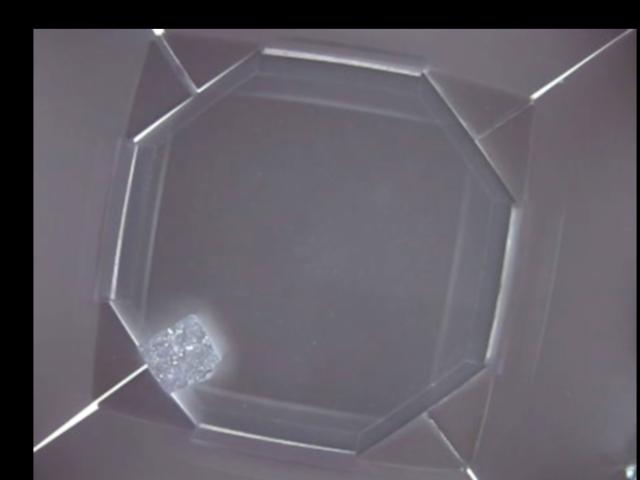China: (137, 314, 220, 393)
